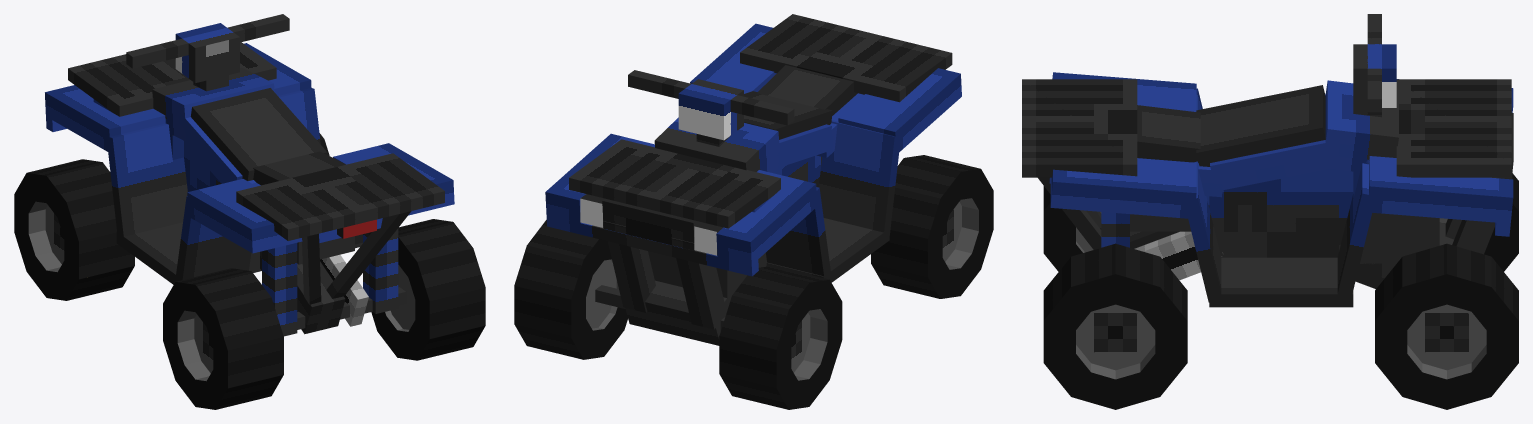
File: grizzly_quad_bike_700.glb
3 renders of one model, left to right at view 1: azimuth 30°, elevation 25°; view 2: azimuth 150°, elevation 25°; view 3: azimuth 270°, elevation 25°, orthographic. The views are drawn at different scales.
Parts seen in each view (by area): view 1: tube_9, tube_6, tube_1, cube_31, cube_49, cube_19, cube_42, cube_25, cube_38, cube_23, cube_52, cube_54 (+21 smaller); view 2: tube_6, tube_9, cube_42, tube_55, cube_31, cube_23, cube_25, cube_38, cube_54, cube_12, cube_52, cube_37 (+20 smaller); view 3: tube_1, tube_55, cube_42, cube_31, cube_18, cube_19, cube_24, cube_32, cube_36, cube_54, cube_3, cube_0 (+18 smaller).
Boxes of the visible parts, x1,y1,x2,y2 form: tube_9: (163,268,283,409); tube_6: (14,159,134,300); tube_1: (371,219,485,360); cube_31: (236,153,444,240); cube_49: (106,123,187,237); cube_19: (190,88,327,180); cube_42: (68,42,276,116); cube_25: (187,179,302,253); cube_38: (45,85,143,152); cube_23: (176,180,255,280); cube_52: (175,23,239,83); cube_54: (152,67,274,141); tube_6: (719,265,842,409); tube_9: (871,155,993,298); cube_42: (569,139,780,228); tube_55: (514,220,627,359); cube_31: (740,14,952,102); cube_23: (818,120,898,238); cube_25: (838,68,961,154); cube_38: (716,175,816,264); cube_54: (654,117,779,172); cube_12: (625,253,766,345); cube_52: (678,79,743,140); cube_37: (602,165,759,250); tube_1: (1043,243,1187,409); tube_55: (1375,243,1518,409); cube_42: (1396,79,1511,177); cube_31: (1022,79,1137,177); cube_18: (1209,169,1353,257); cube_19: (1196,85,1325,166); cube_24: (1050,158,1196,219); cube_32: (1209,257,1353,307); cube_36: (1368,168,1513,223); cube_54: (1322,80,1398,172); cube_3: (1407,304,1486,370); cube_0: (1076,304,1155,370).
Bounding box in the file's own units: 1.44 × 1.36 × 2.16.
1 material, 1 textured.
